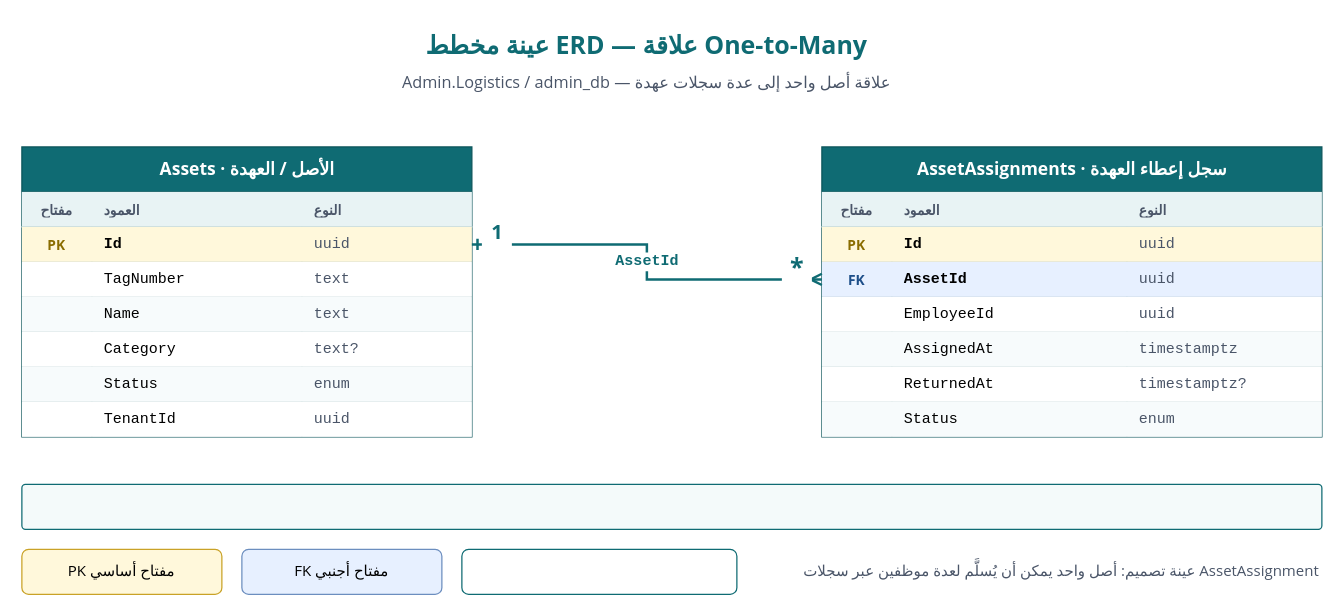
This 1344x616 diagram has some shape labels left out. Here are the shapes that lost their labels. From the top down, the centre of each, then its label:
At (671,506): "مفتاح القراءة".
At (599,571): "1 ——< * واحد إلى متعدد".
